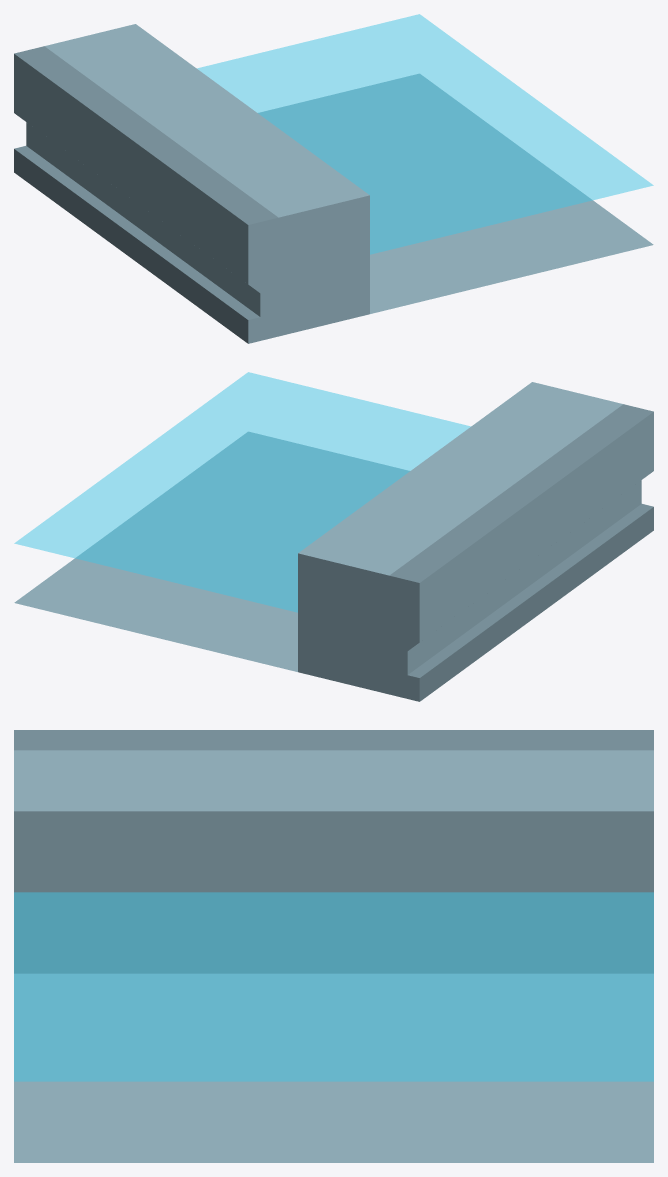
File: fountainEdge.fbx
3 renders of one model, top to bottom at view 1: azimuth 30°, elevation 25°; view 2: azimuth 150°, elevation 25°; view 3: azimuth 270°, elevation 25°, orthographic. The views are drawn at different scales.
Visible parts, largest first — view 1: fountainEdge; view 2: fountainEdge; view 3: fountainEdge.
Boxes of the visible parts, x1,y1,x2,y2 form: fountainEdge: (14,14,653,343); fountainEdge: (14,372,653,701); fountainEdge: (14,730,653,1162).
Size of the model in its own units: 10 by 2.8 by 10.
